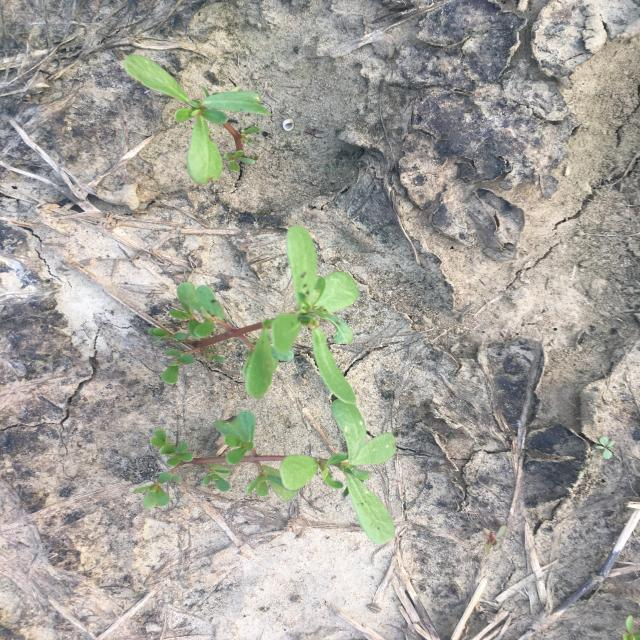Purslane: (131, 399, 400, 547), (147, 224, 362, 405), (122, 53, 270, 187)
